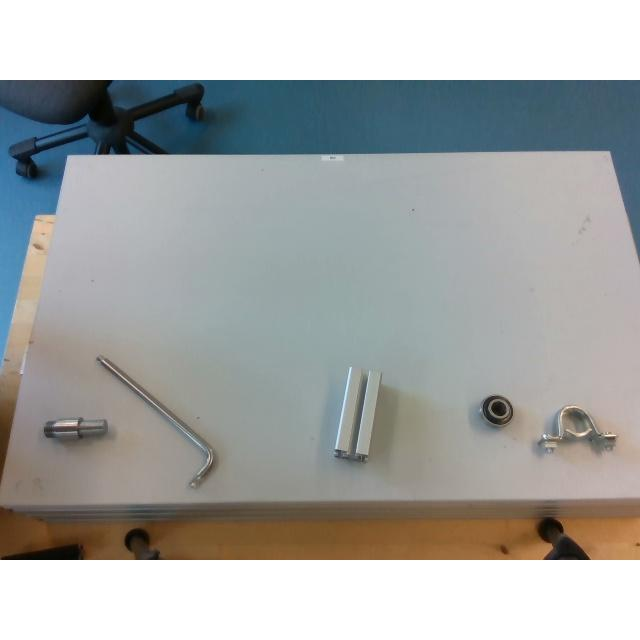AllenKey: (96, 356, 212, 488)
Axis2: (43, 418, 107, 438)
Bearing2: (481, 394, 512, 426)
Housing: (539, 407, 617, 451)
S40_40_G: (333, 368, 379, 460)
